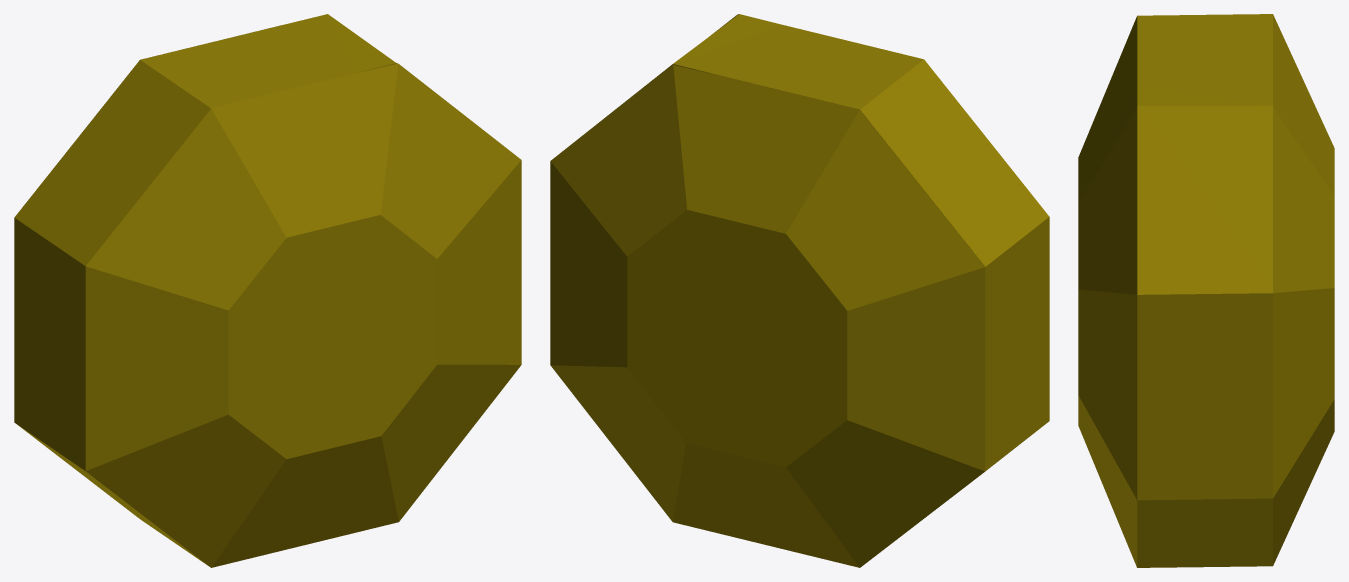
The model's file is gemaHORUS.FBX.
3 views of the same model, side by side, from view 1: azimuth 30°, elevation 25°; view 2: azimuth 150°, elevation 25°; view 3: azimuth 270°, elevation 25° (orthographic).
Visible parts, largest first — view 1: Plane003; view 2: Plane003; view 3: Plane003.
Boxes of the visible parts, left/top/right/bottom form: Plane003: left=14, top=14, right=521, bottom=567; Plane003: left=550, top=14, right=1049, bottom=567; Plane003: left=1078, top=14, right=1334, bottom=567.
Bounding box in the file's own units: 178 × 178 × 89.68.
